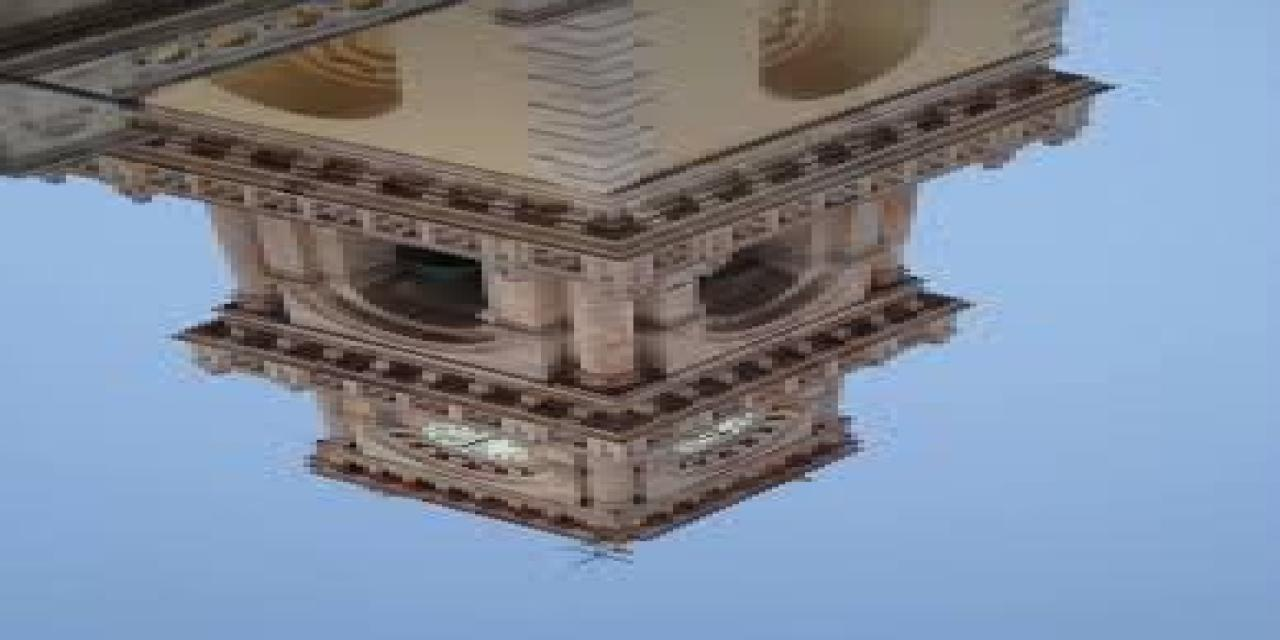Agios Minas: (16, 1, 1129, 565)
